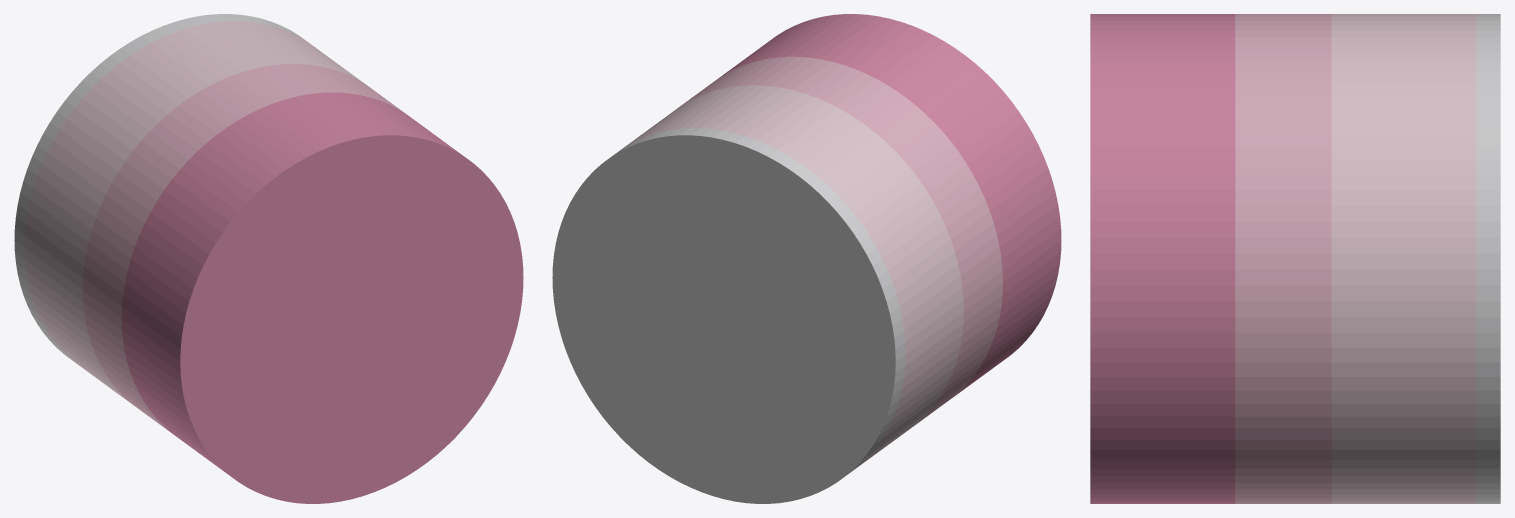
The model's file is cake_4in_layers2.glb.
3 views of the same model, side by side, from view 1: azimuth 30°, elevation 25°; view 2: azimuth 150°, elevation 25°; view 3: azimuth 270°, elevation 25° (orthographic). The views are drawn at different scales.
Visible parts, largest first — view 1: geometry_2, geometry_0, geometry_1, geometry_3; view 2: geometry_3, geometry_0, geometry_2, geometry_1; view 3: geometry_0, geometry_2, geometry_1, geometry_3.
Boxes of the visible parts, box(x1,y1,x2,y2) form: geometry_2: box(121, 92, 523, 503); geometry_0: box(24, 21, 365, 404); geometry_1: box(82, 64, 404, 432); geometry_3: box(14, 14, 307, 360); geometry_3: box(552, 128, 905, 503); geometry_0: box(622, 85, 963, 467); geometry_2: box(719, 14, 1061, 396); geometry_1: box(681, 56, 1002, 424); geometry_0: box(1331, 14, 1476, 503); geometry_2: box(1090, 14, 1235, 503); geometry_1: box(1235, 14, 1331, 503); geometry_3: box(1476, 14, 1500, 503).
Size of the model in its own units: 0.1016 by 0.1016 by 0.085.
